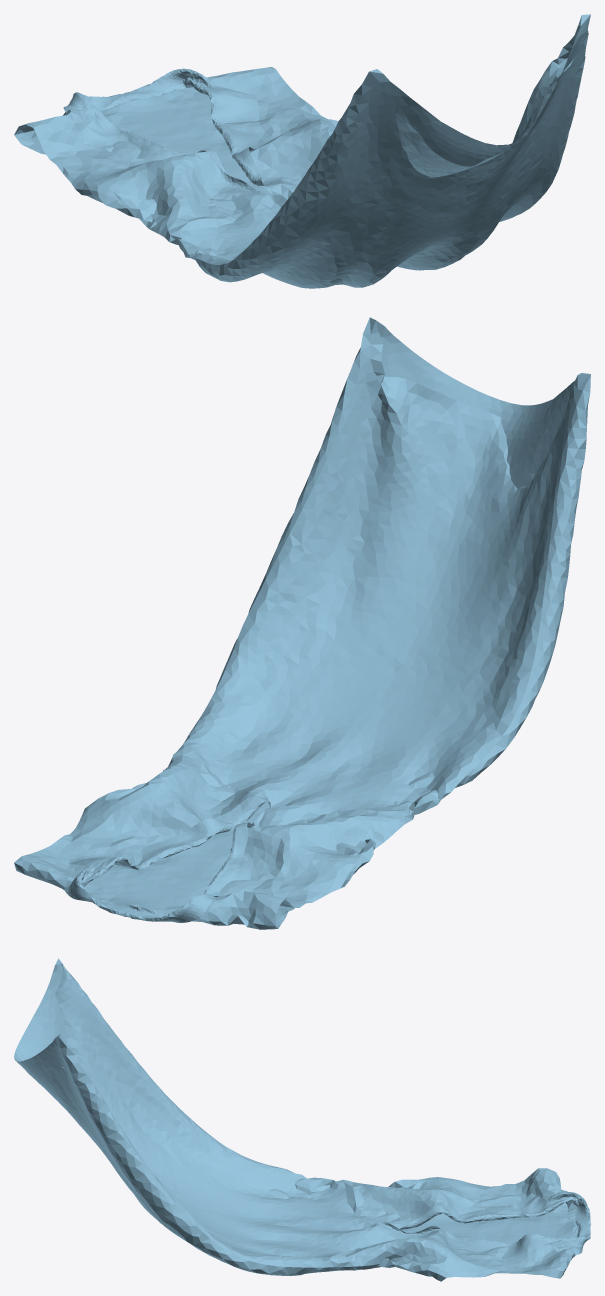
The model's file is frame_05.glb.
The picture shows the model from 3 angles, top to bottom: view 1: azimuth 30°, elevation 25°; view 2: azimuth 150°, elevation 25°; view 3: azimuth 270°, elevation 25°; orthographic projection. The views are drawn at different scales.
Parts seen in each view (by area): view 1: frame_05.obj; view 2: frame_05.obj; view 3: frame_05.obj.
Boxes of the visible parts, left/top/right/bottom form: frame_05.obj: left=14, top=14, right=590, bottom=288; frame_05.obj: left=14, top=317, right=590, bottom=929; frame_05.obj: left=14, top=958, right=590, bottom=1281.
Bounding box in the file's own units: 0.6513 × 0.6778 × 1.49.
